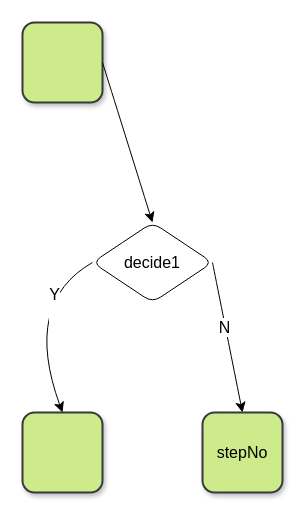
Some shapes in this 306 by 517 pixel diagram are drawn without their labels. The centre of each missing label's shape, as x and y in pixels:
step1: (x=63, y=63)
stepYes: (x=63, y=453)
